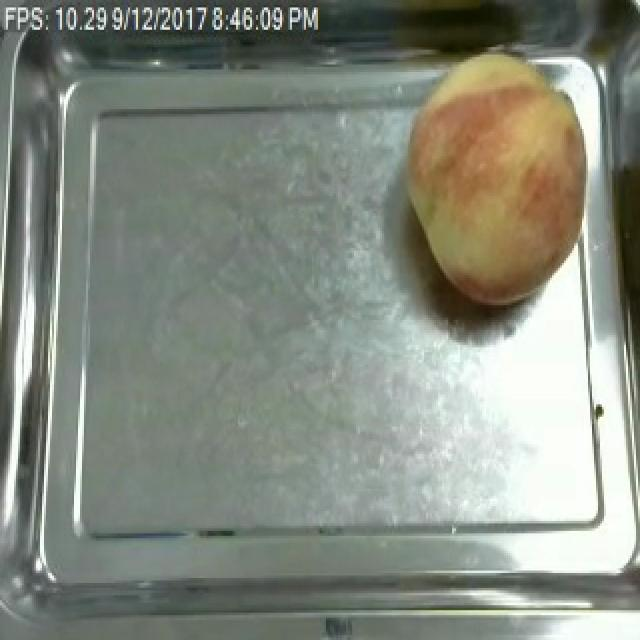Fruit: (392, 42, 608, 313)
